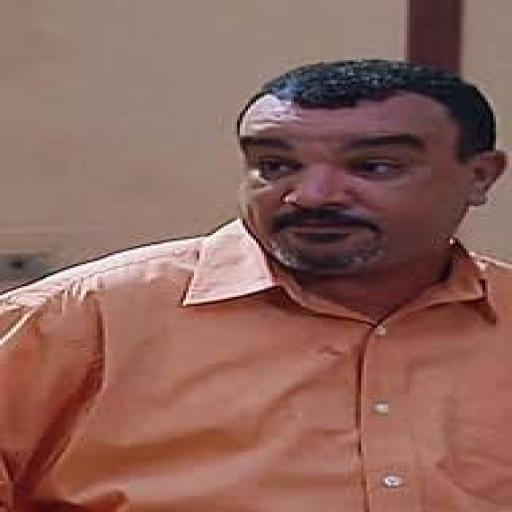slimane: (240, 93, 504, 273)
